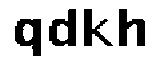d: (46, 7, 79, 51)
h: (117, 6, 148, 51)
k: (82, 6, 115, 52)
q: (13, 14, 45, 60)
